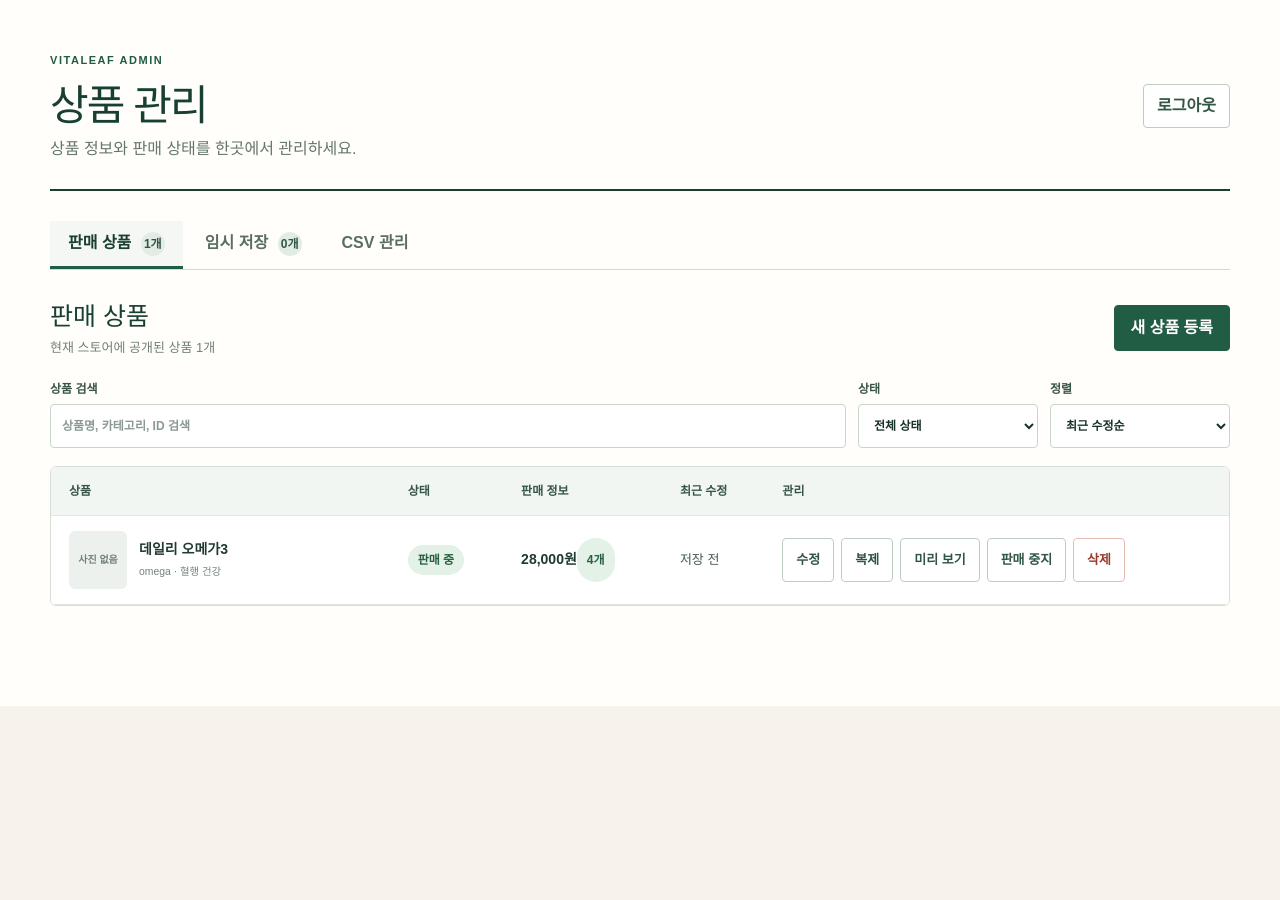
Test: shows an actionable error when the browser blocks the preview popup
Click the button with aria-label "데일리 오메가3 수정": (808, 560) x1=782 y1=538 x2=834 y2=582
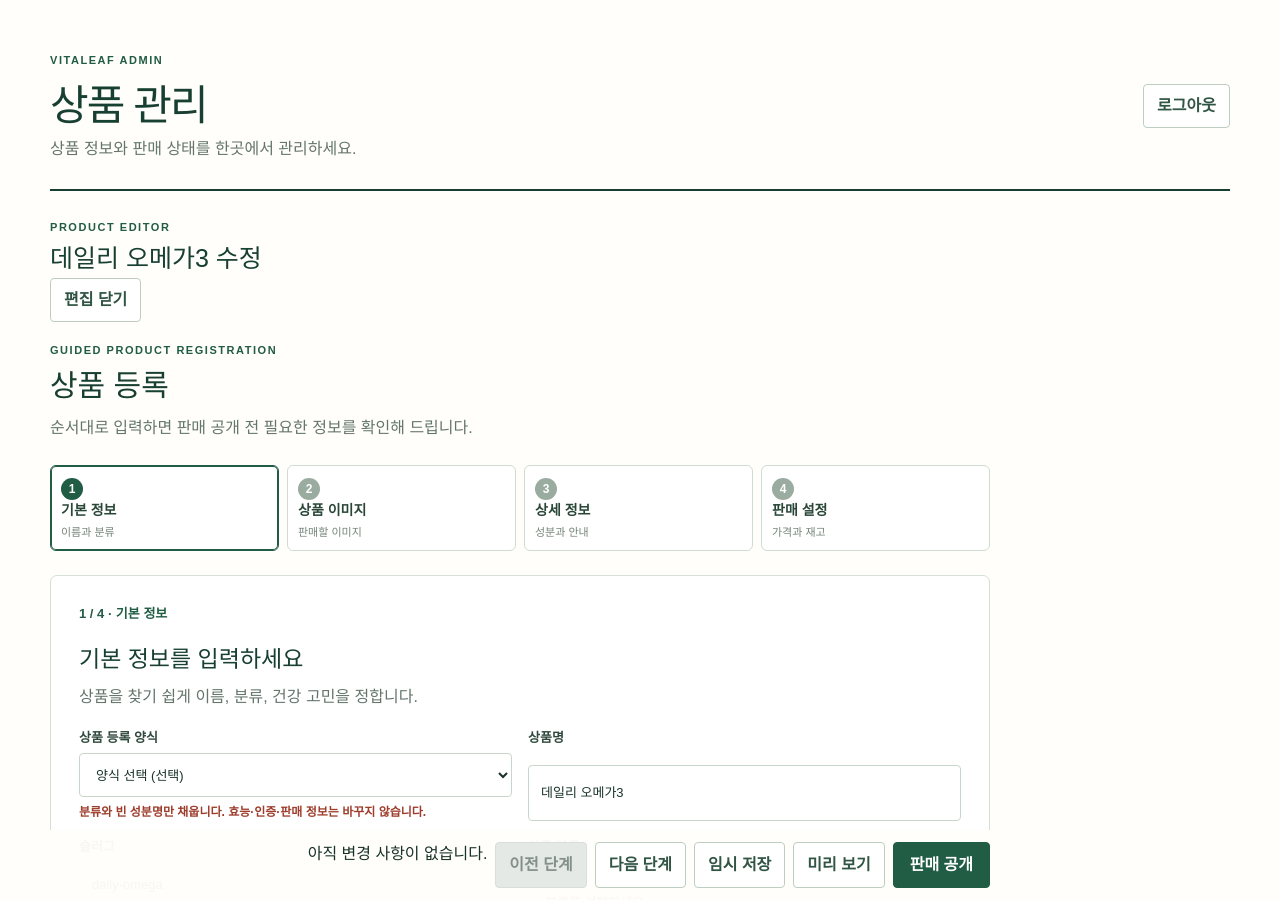
Click the button "미리 보기": (839, 865) x1=793 y1=842 x2=885 y2=888
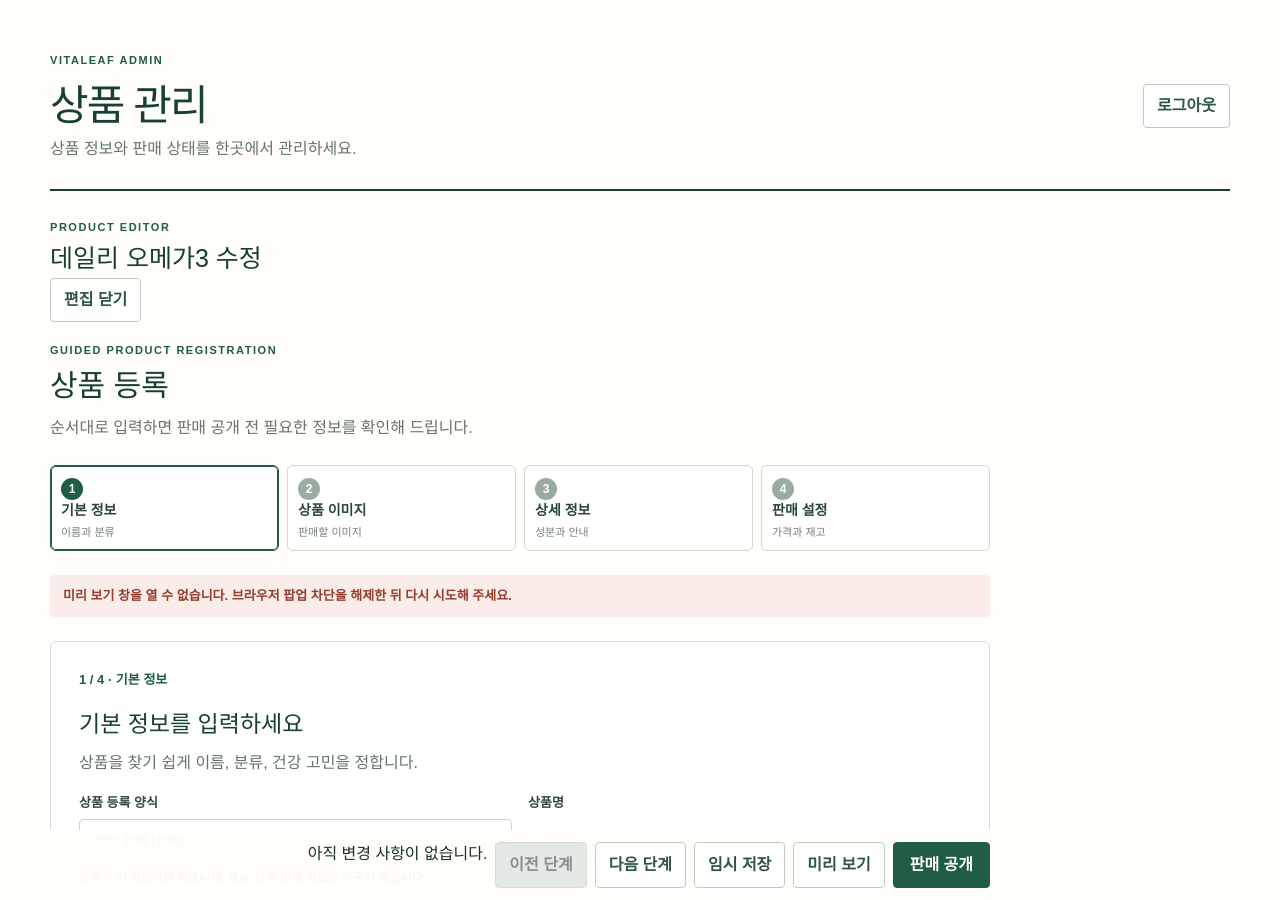
Expected: the message "미리 보기 창을 열 수 없습니다. 브라우저 팝업 차단을 해제한 뒤 다시 시도해 주세요." is shown, x1=50 y1=575 x2=990 y2=617
